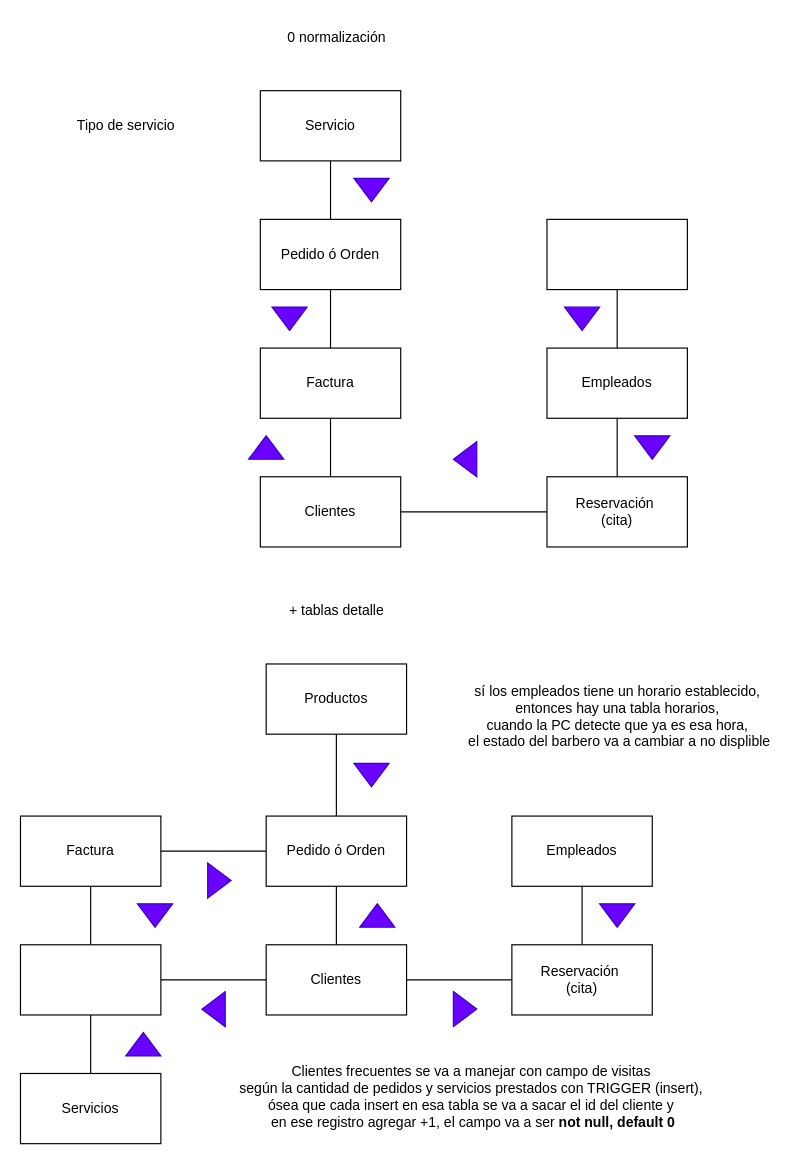
The diagram is 807 pixels wide and 1164 high, and some of its shapes have lost their labels. The centre of each missing label's shape, as x and y in pixels:
Detalles_Servicios: (90,979)
Horarios: (616,254)
